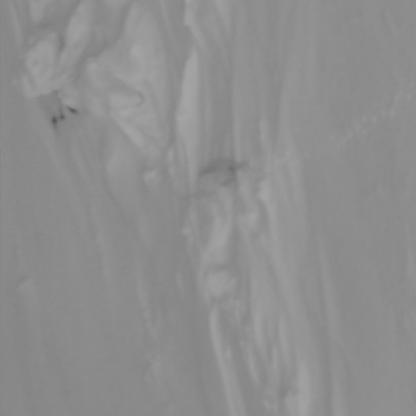polar-bear: (200, 163, 246, 182)
